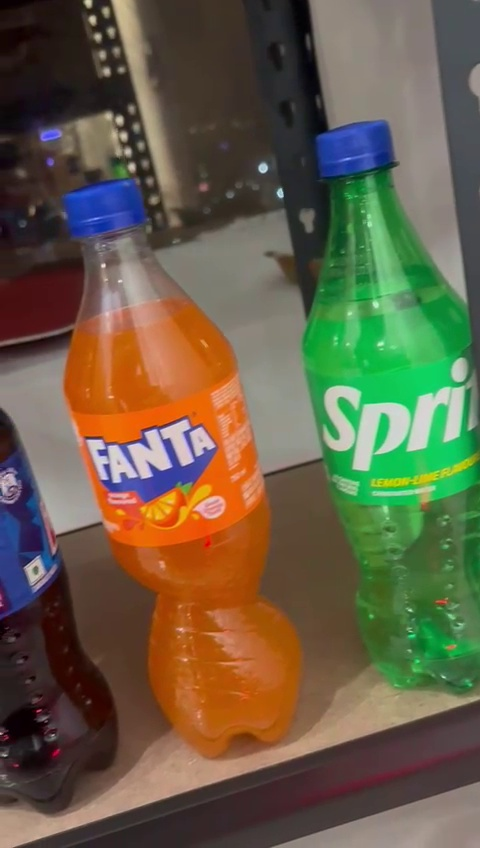Fanta: (61, 179, 315, 754)
